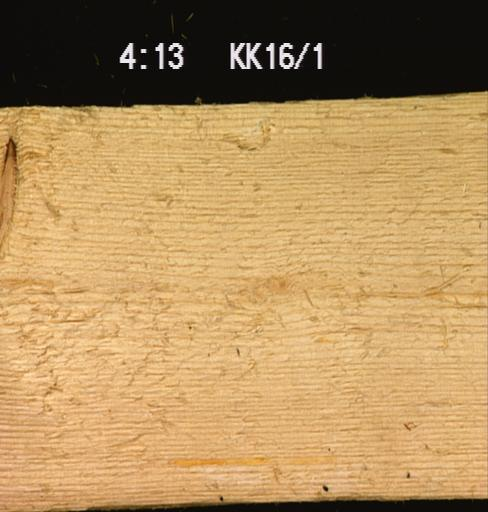split: (48, 317, 86, 323)
